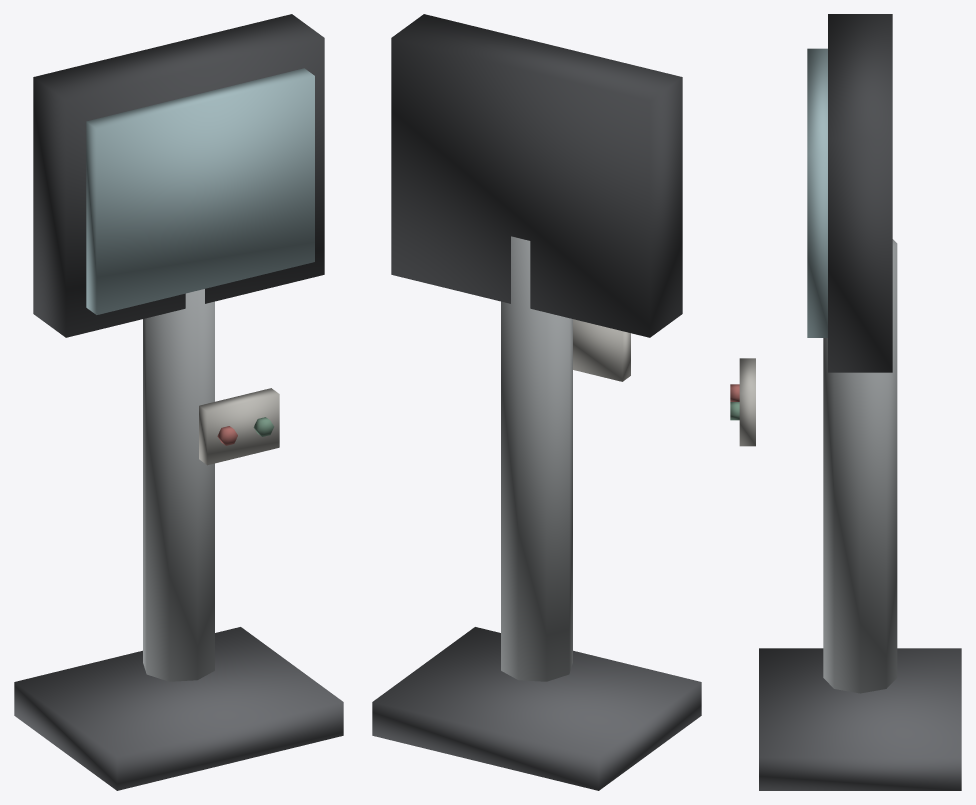
File: pos_terminal.glb
3 renders of one model, left to right at view 1: azimuth 30°, elevation 25°; view 2: azimuth 150°, elevation 25°; view 3: azimuth 270°, elevation 25°, orthographic.
Visible parts, largest first — view 1: world; view 2: world; view 3: world.
Part boxes in pixels (x1=…): world: x1=14, y1=14, x2=343, y2=790; world: x1=372, y1=14, x2=701, y2=790; world: x1=730, y1=14, x2=961, y2=790.
Size of the model in its own units: 0.32 by 0.79 by 0.251.
